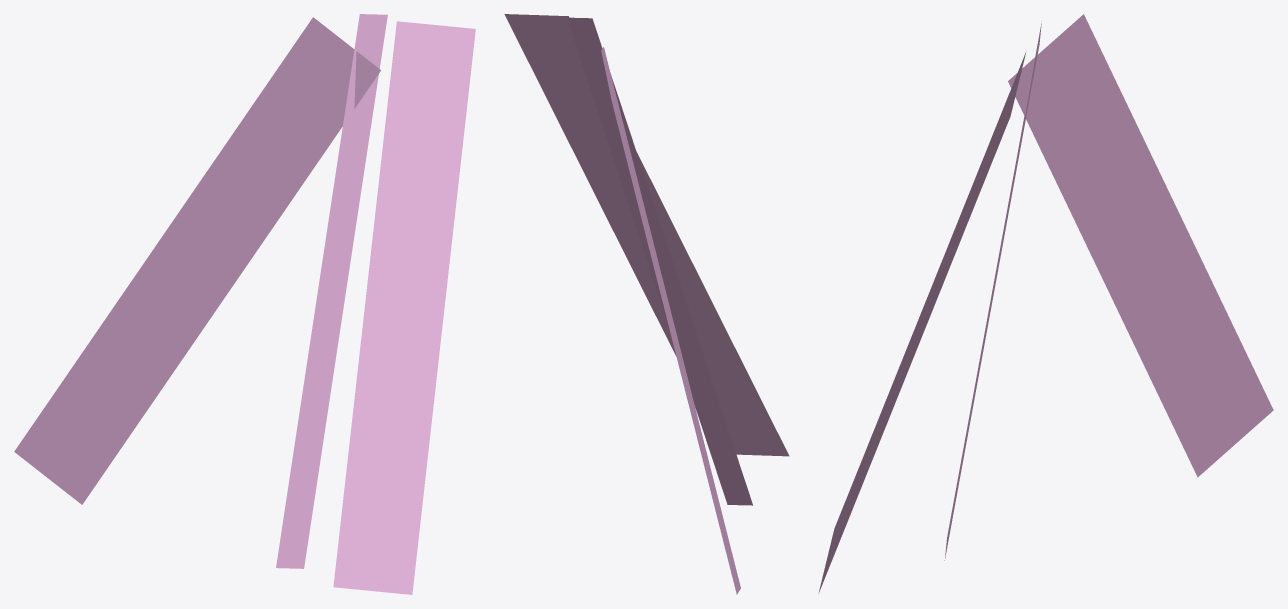
3 views of the same model, side by side, from view 1: azimuth 30°, elevation 25°; view 2: azimuth 150°, elevation 25°; view 3: azimuth 270°, elevation 25° (orthographic). The views are drawn at different scales.
Visible parts, largest first — view 1: Object83; view 2: Object83; view 3: Object83.
Boxes of the visible parts, x1,y1,x2,y2 form: Object83: (14,14,475,594); Object83: (504,14,789,594); Object83: (818,14,1273,593).
Size of the model in its own units: 337 by 461 by 318.
